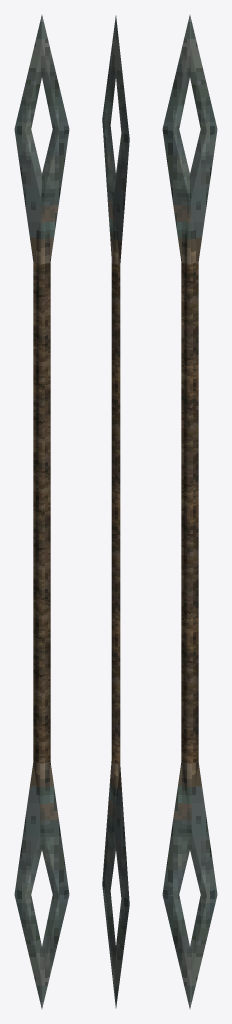
Rendered from wp_mle_lance_massassi_l2.fbx.
3 renders of one model, left to right at view 1: azimuth 90°, elevation 25°; view 2: azimuth 210°, elevation 25°; view 3: azimuth 270°, elevation 25°, orthographic.
Visible parts, largest first — view 1: mesh_node; view 2: mesh_node; view 3: mesh_node.
Boxes of the visible parts, x1=… form: mesh_node: x1=14, y1=15, x2=69, y2=1008; mesh_node: x1=102, y1=15, x2=129, y2=1008; mesh_node: x1=162, y1=15, x2=217, y2=1008.
Bounding box in the file's own units: 0.0177 × 2.03 × 0.1015.
1 material, 1 textured.
